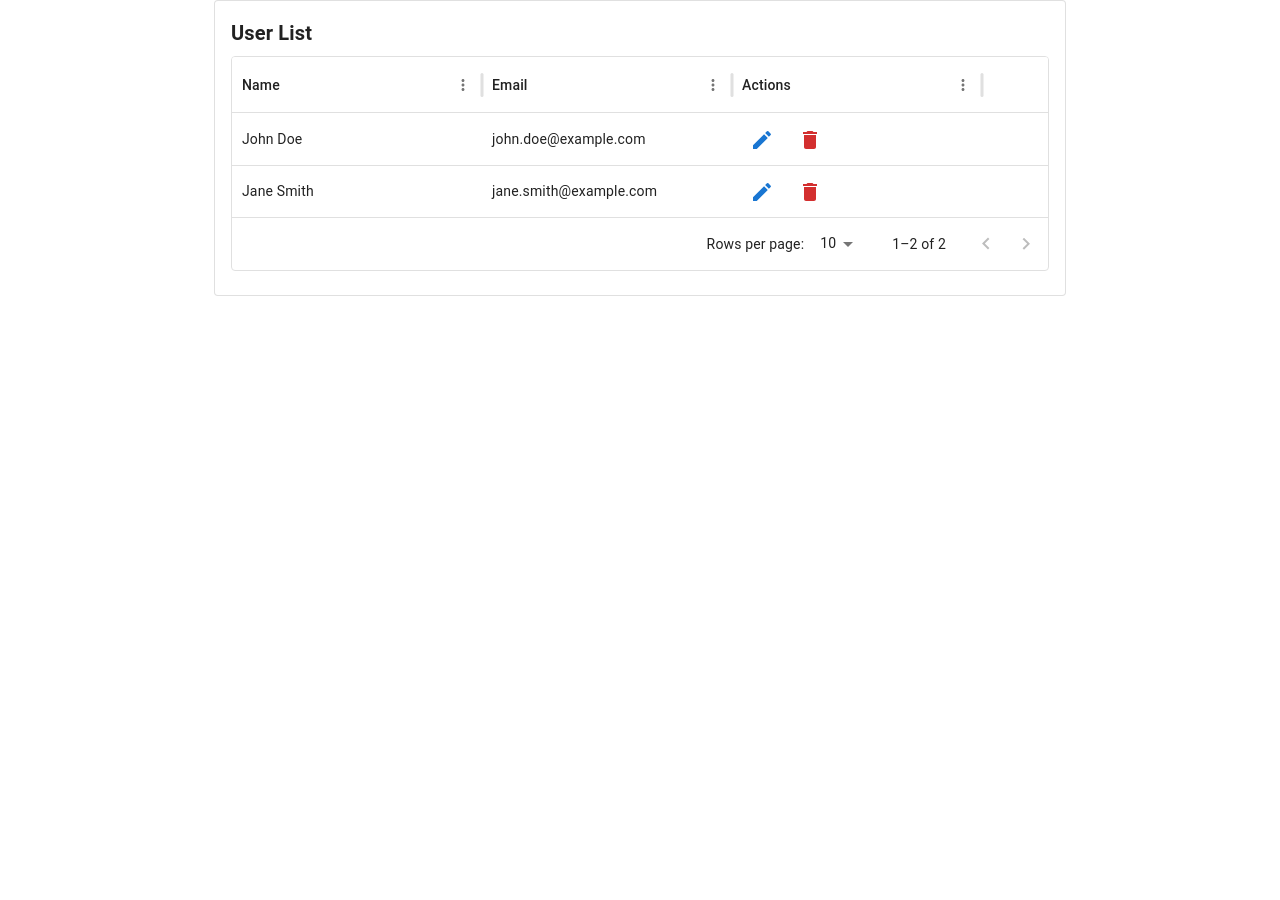
Test: UserList › opens modal when edit button is clicked
Note: Click the edit button
What coordinates should you click on to do the following:
click the button named "edit" in the row of "John Doe"
I would click on:
 (762, 140)
Its box is [742, 120, 782, 160].
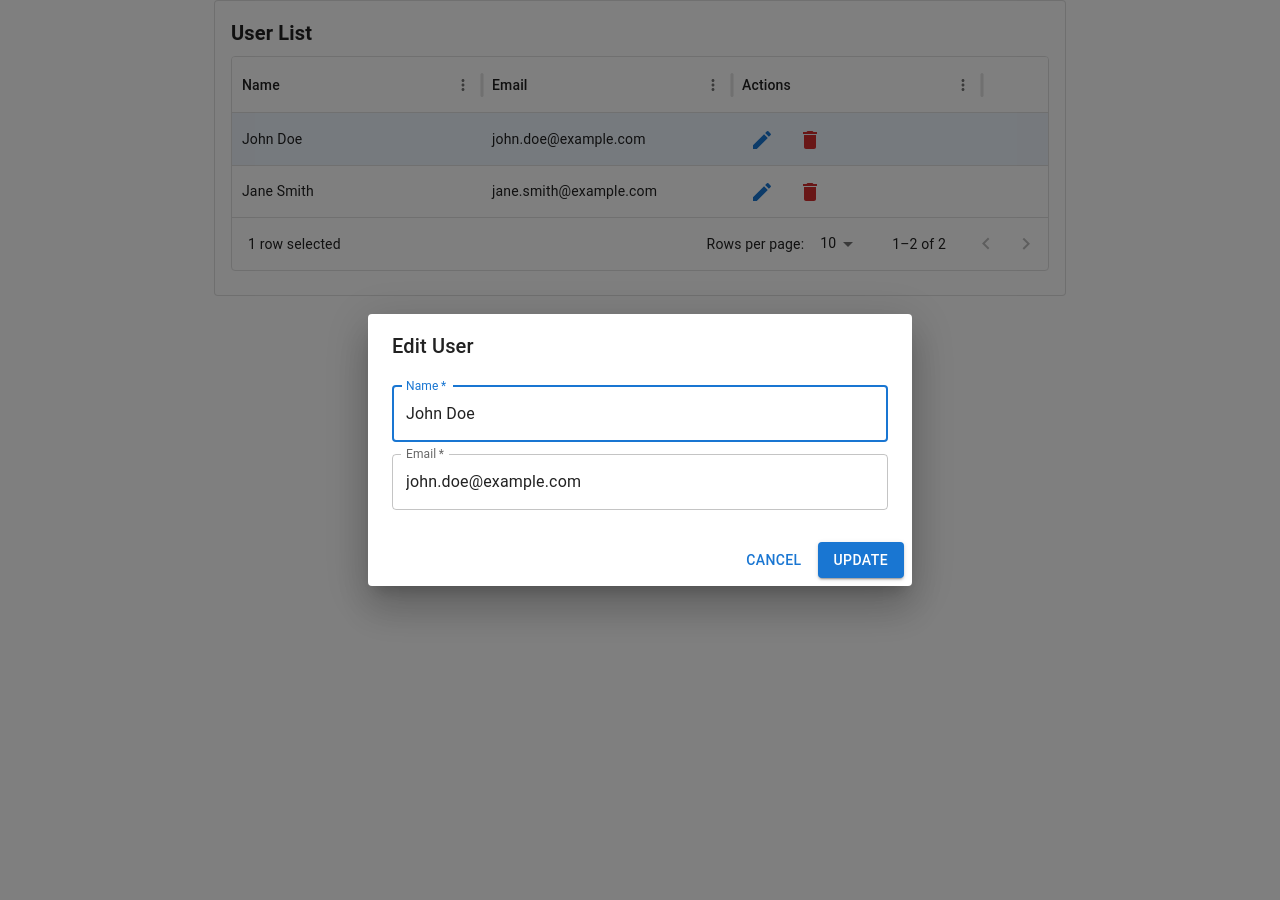
Check: the heading "Edit User" is shown, box [392, 334, 474, 358]
